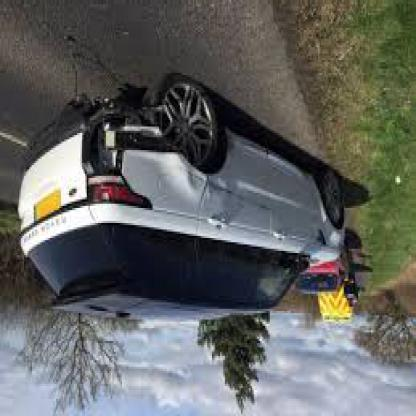dent: (184, 176, 235, 210)
